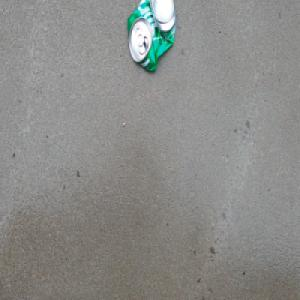SodaCan: (126, 0, 177, 74)
